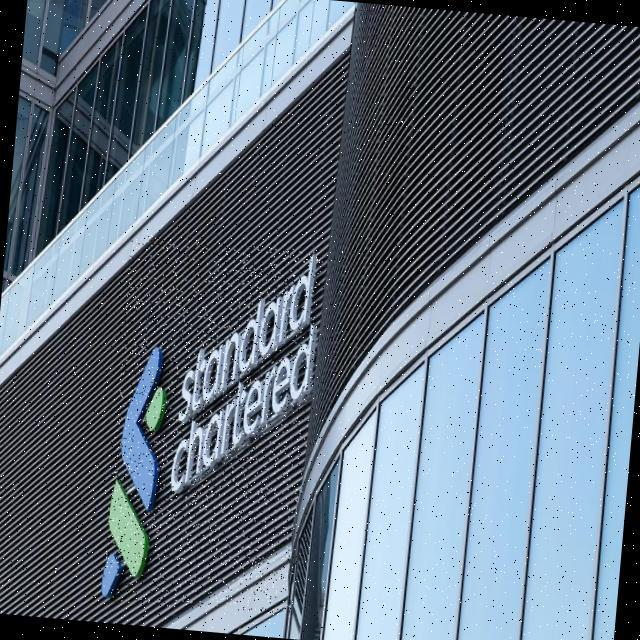Standard Chartered: (100, 234, 323, 617)
